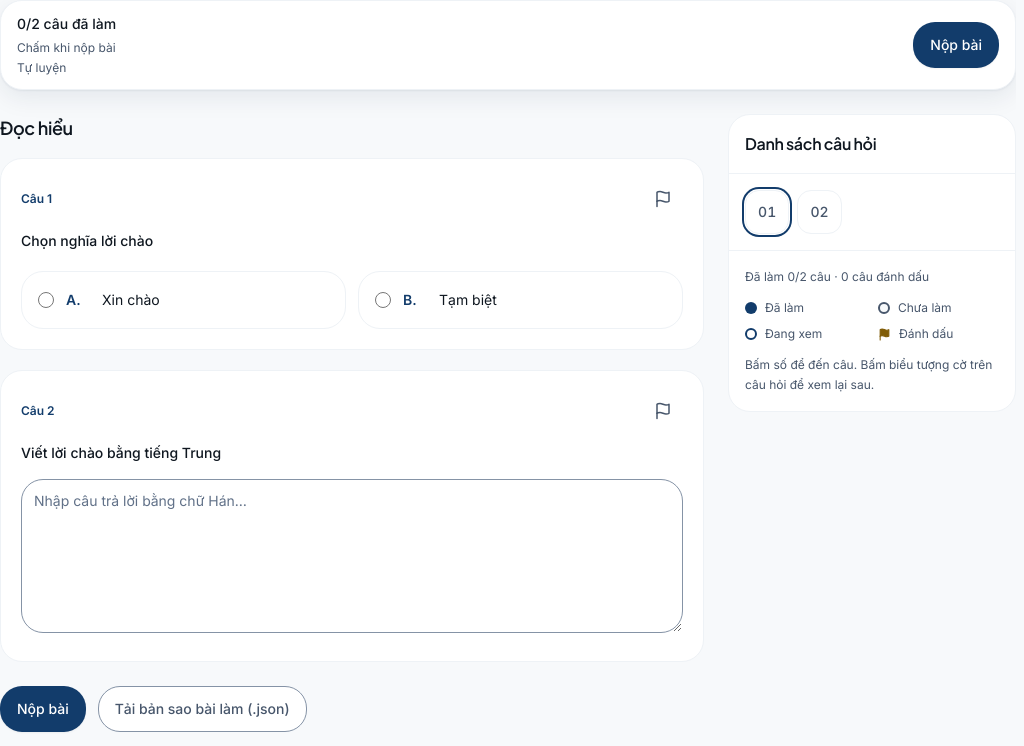
Test: hides correctness until submission in on-submit mode and allows changing the answer
Click the radio button labelled "B. Tạm biệt".
click(383, 300)  # box [375, 292, 391, 308]
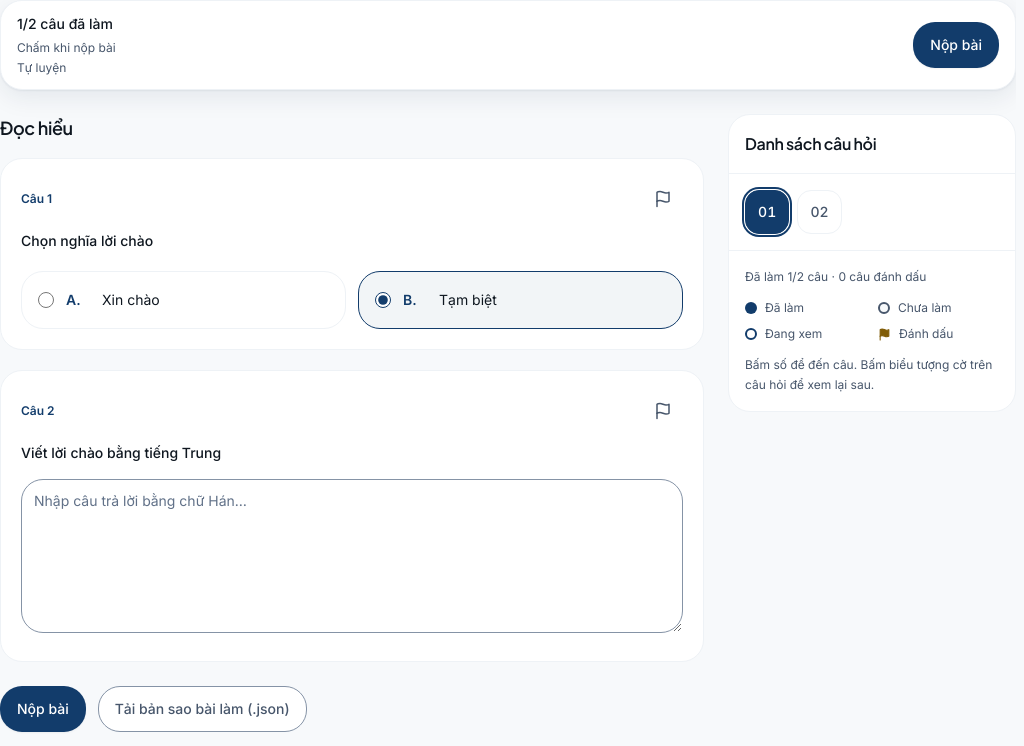
Expected: the text "Chính xác" is not shown
Click the radio button labelled "A. Xin chào".
click(46, 300)  # box [38, 292, 54, 308]
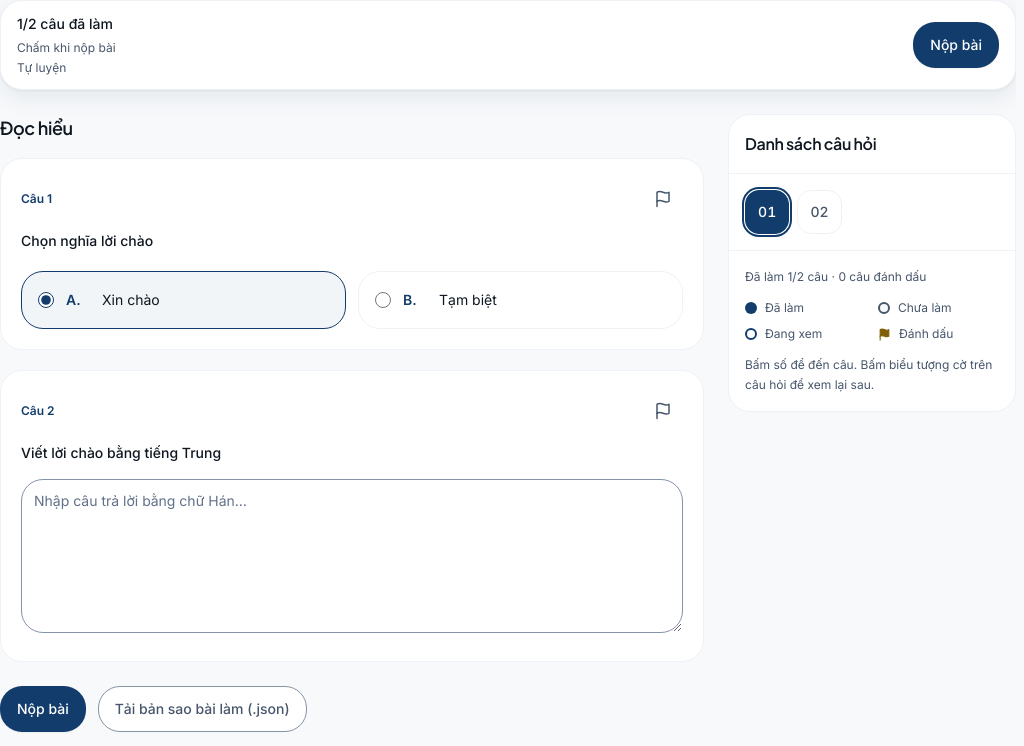
Now the radio button labelled "A. Xin chào" is checked, box [38, 292, 54, 308]
Click the button "Nộp bài" in the row of "Chấm khi nộp bài".
click(956, 45)  # box [913, 22, 999, 68]
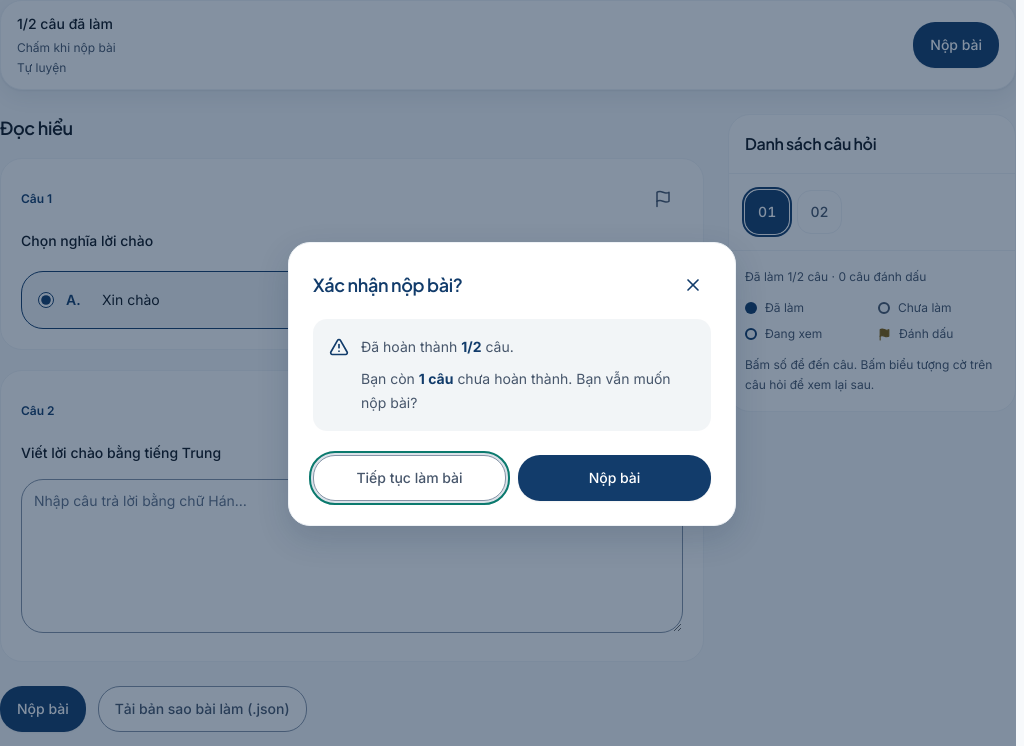
Click the button "Nộp bài".
click(614, 478)  # box [518, 455, 711, 501]
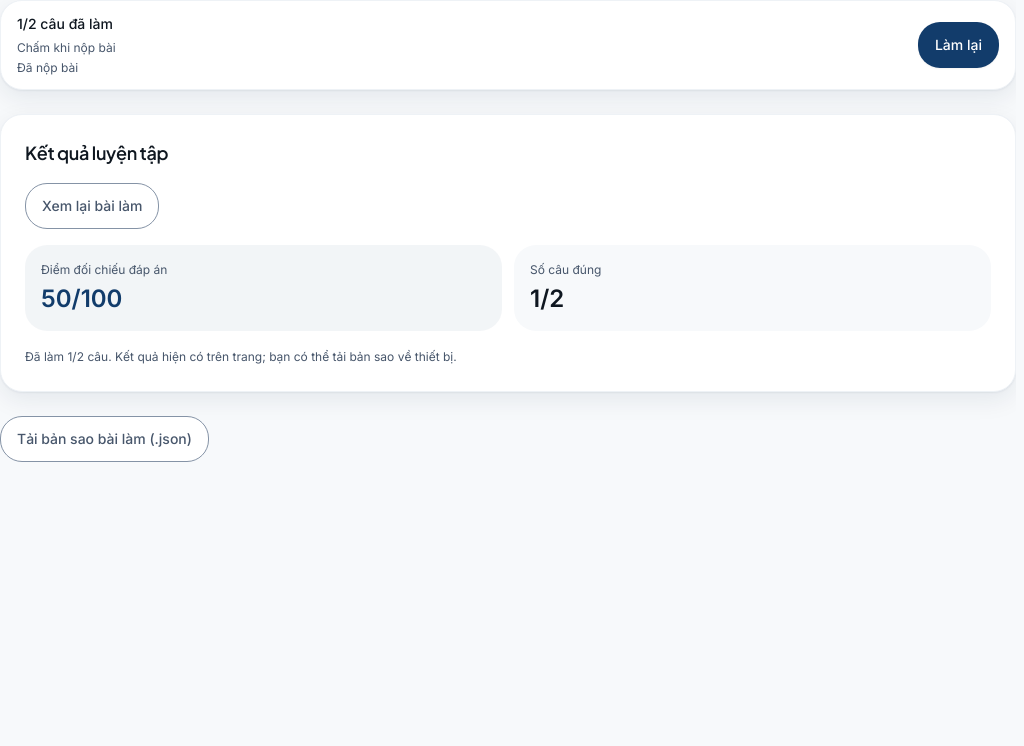
Now the element "Kết quả luyện tập" is shown, box [0, 114, 1016, 392]
Click the button "Xem lại bài làm".
click(92, 206)  # box [25, 183, 160, 229]
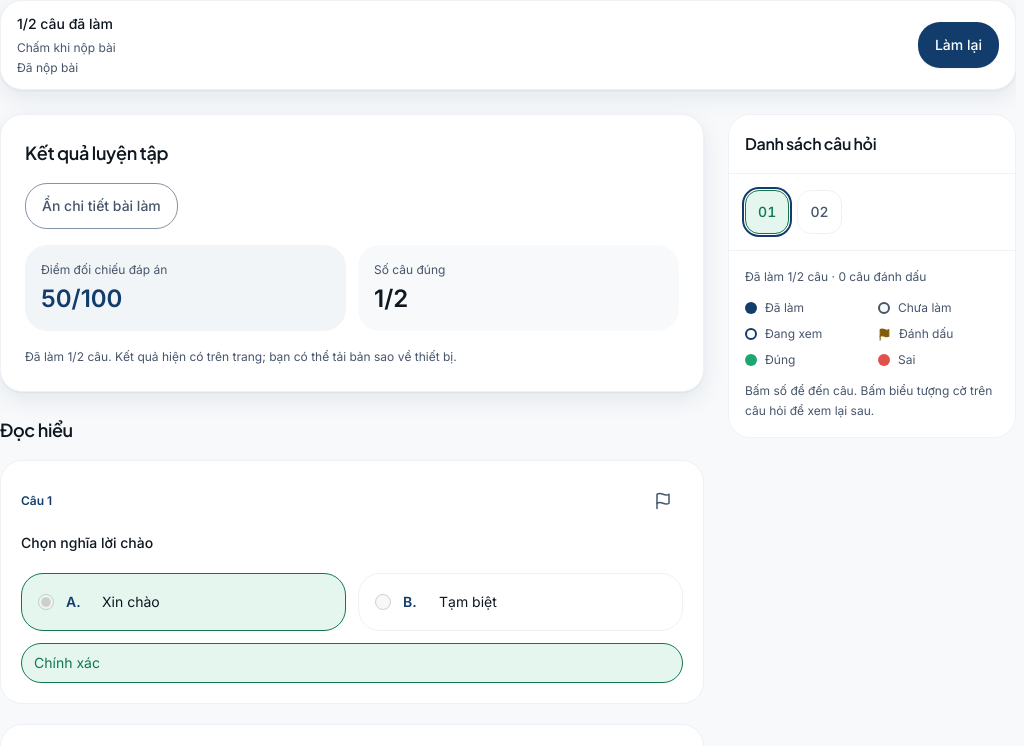
Now the text "Chính xác" is shown, box [21, 643, 683, 683]
